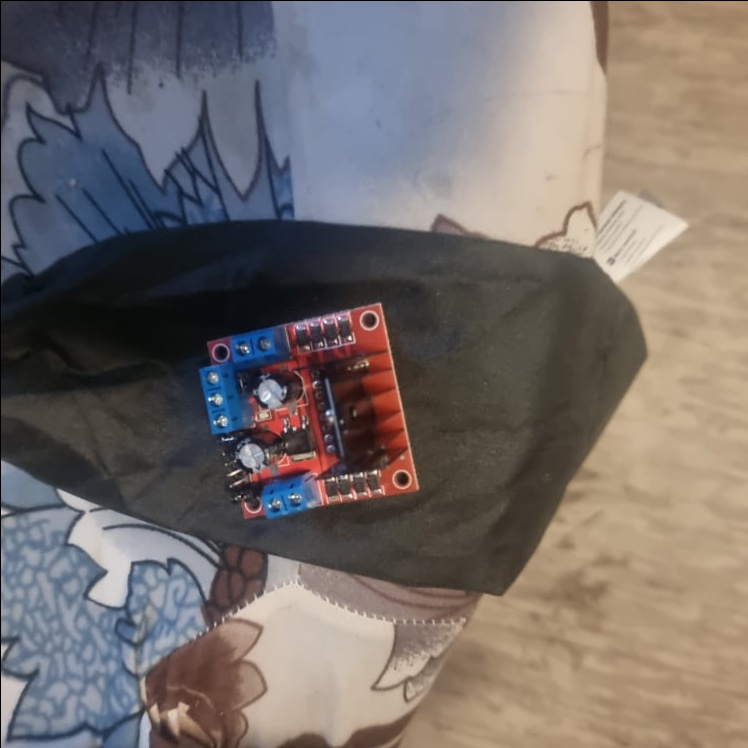MOTOR: (194, 295, 425, 523)
